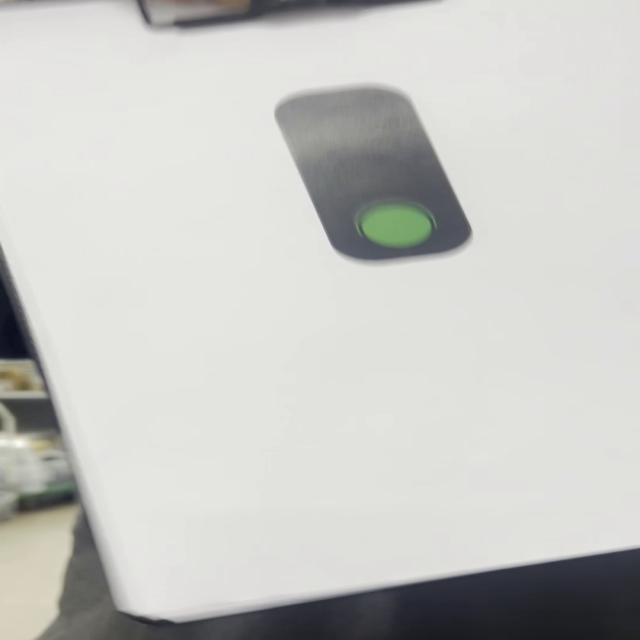green: (276, 90, 476, 261)
